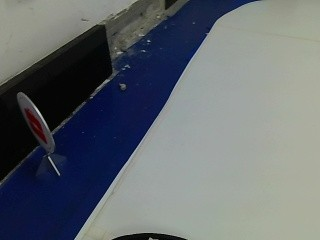company: (15, 88, 55, 155)
